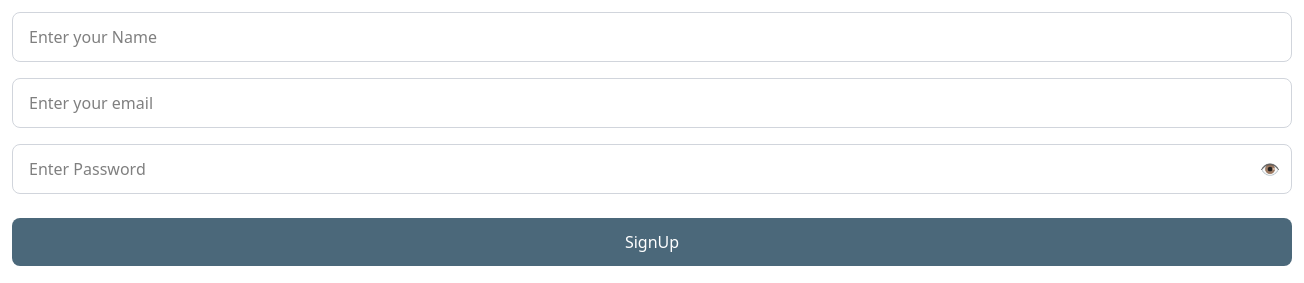
Scenario: AdminSignUpForm Component › should change password icon from eye to monkey when toggled
The image size is (1304, 283).
// Click to show password
What coordinates should you click on to do the following:
click the button "👁️"
I would click on:
 (1270, 169)
Its box is [1260,157,1280,181].
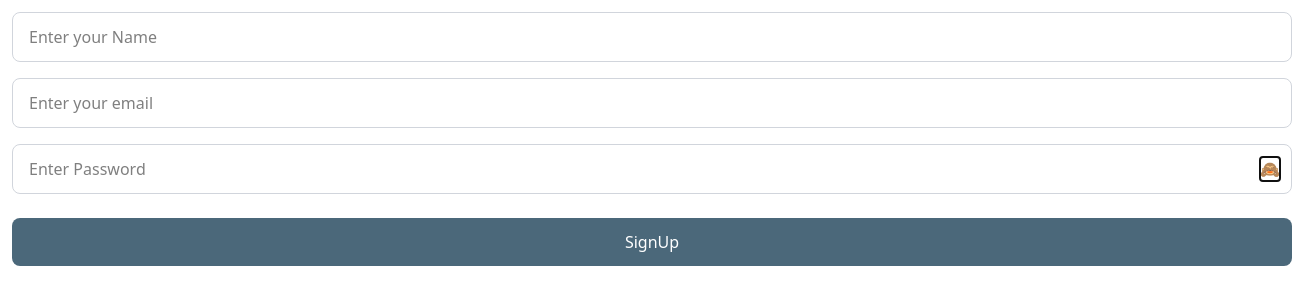
Check: the button named "👁️" reads "🙈"
// Click again to hide password
What coordinates should you click on to do the following:
click the button named "👁️"
I would click on:
 (1270, 169)
Its box is [1260,157,1280,181].
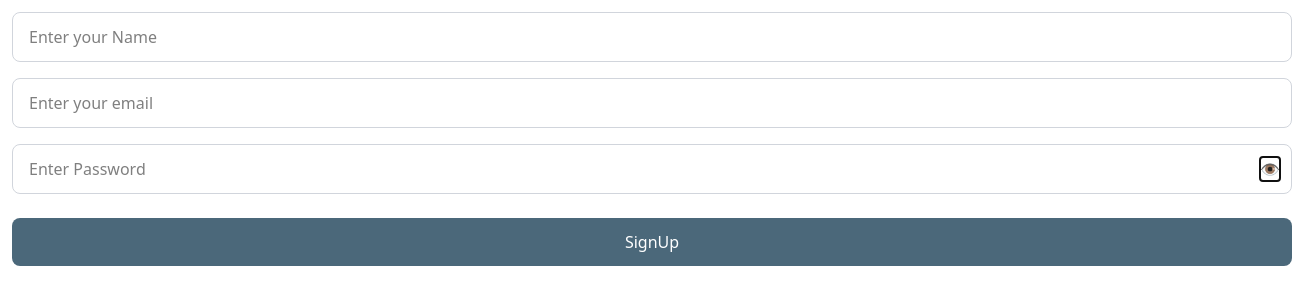
Check: the button "👁️" is shown, box [1260,157,1280,181]
